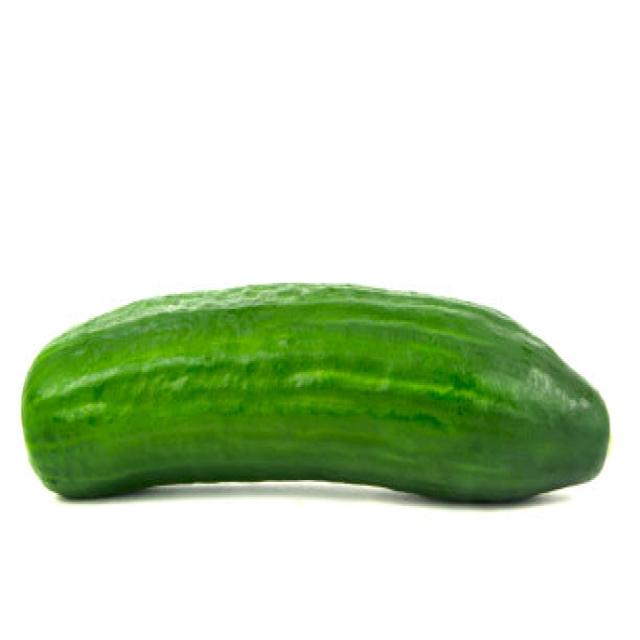cucumber: (22, 278, 610, 501)
